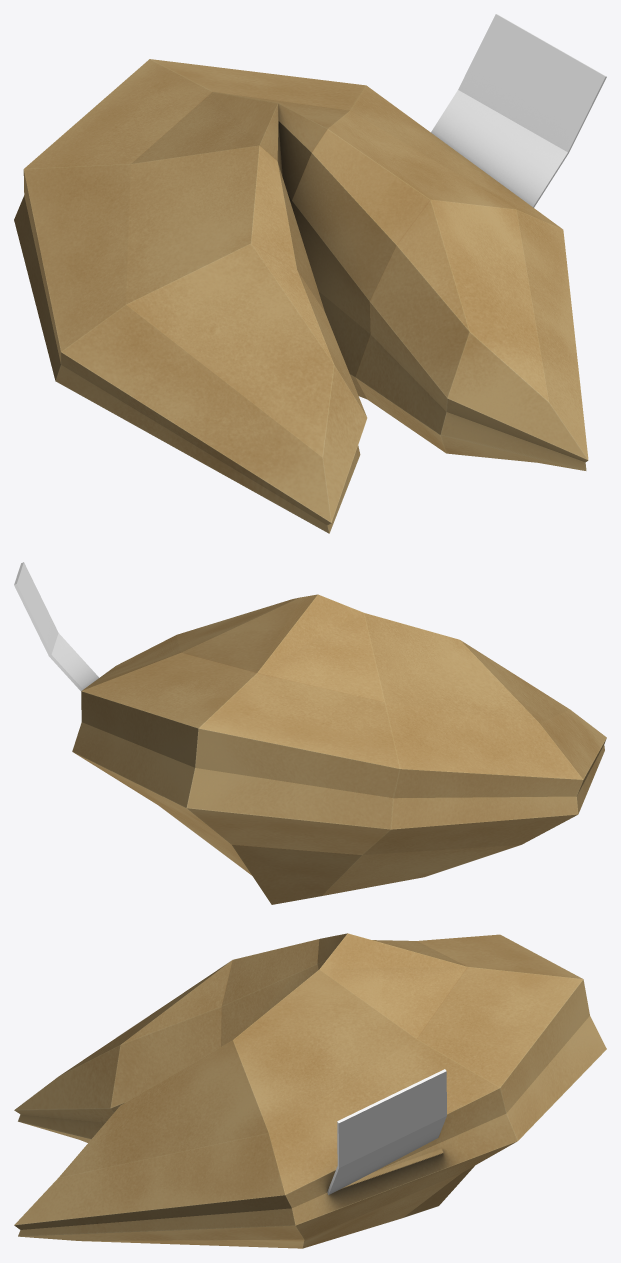
Rendered from FortuneCookie.gltf.
The picture shows the model from 3 angles, top to bottom: view 1: azimuth 30°, elevation 25°; view 2: azimuth 150°, elevation 25°; view 3: azimuth 270°, elevation 25°; orthographic projection. The views are drawn at different scales.
Parts seen in each view (by area): view 1: node-0; view 2: node-0; view 3: node-0.
Part boxes in pixels (x1,y1,x2,y2): node-0: (14, 14, 606, 533); node-0: (14, 562, 606, 904); node-0: (14, 933, 606, 1248).
Size of the model in its own units: 5.09 by 2.54 by 4.95.
1 material, 1 textured.
